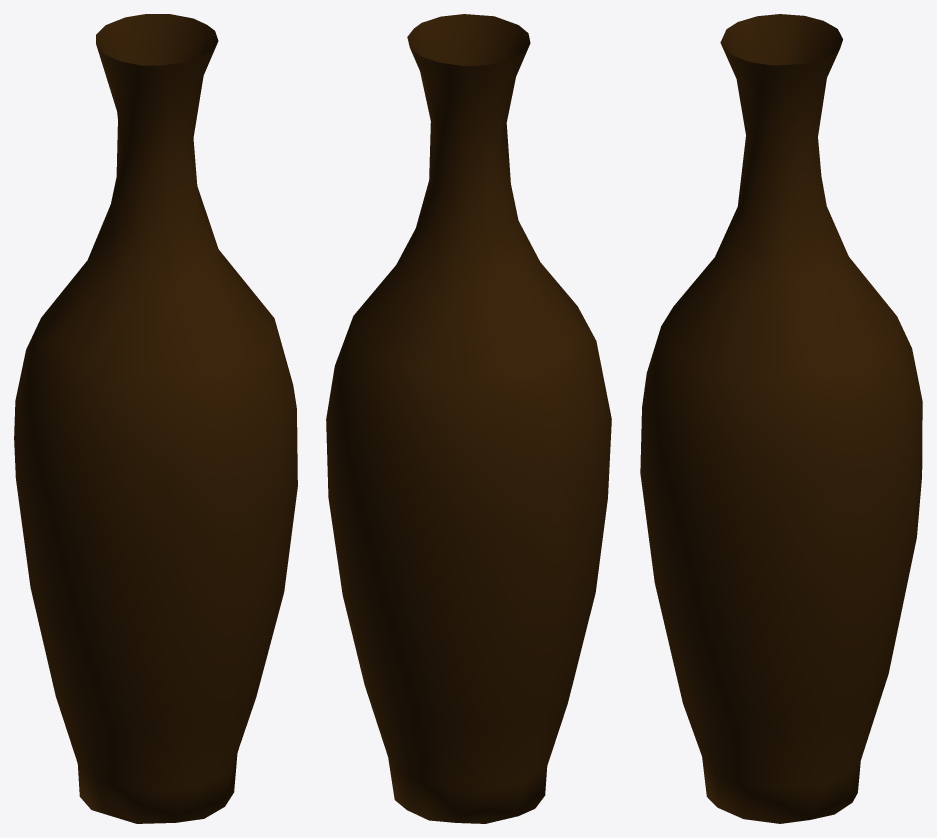
The model's file is vazo001.fbx.
The picture shows the model from 3 angles, left to right: view 1: azimuth 30°, elevation 25°; view 2: azimuth 150°, elevation 25°; view 3: azimuth 270°, elevation 25°; orthographic projection.
Parts seen in each view (by area): view 1: Catalina_Clay_Product_B.006; view 2: Catalina_Clay_Product_B.006; view 3: Catalina_Clay_Product_B.006.
Boxes of the visible parts, bbox=[...] form: Catalina_Clay_Product_B.006: bbox=[14, 14, 297, 823]; Catalina_Clay_Product_B.006: bbox=[326, 14, 611, 823]; Catalina_Clay_Product_B.006: bbox=[640, 14, 922, 823].
Size of the model in its own units: 223 by 650 by 221.
